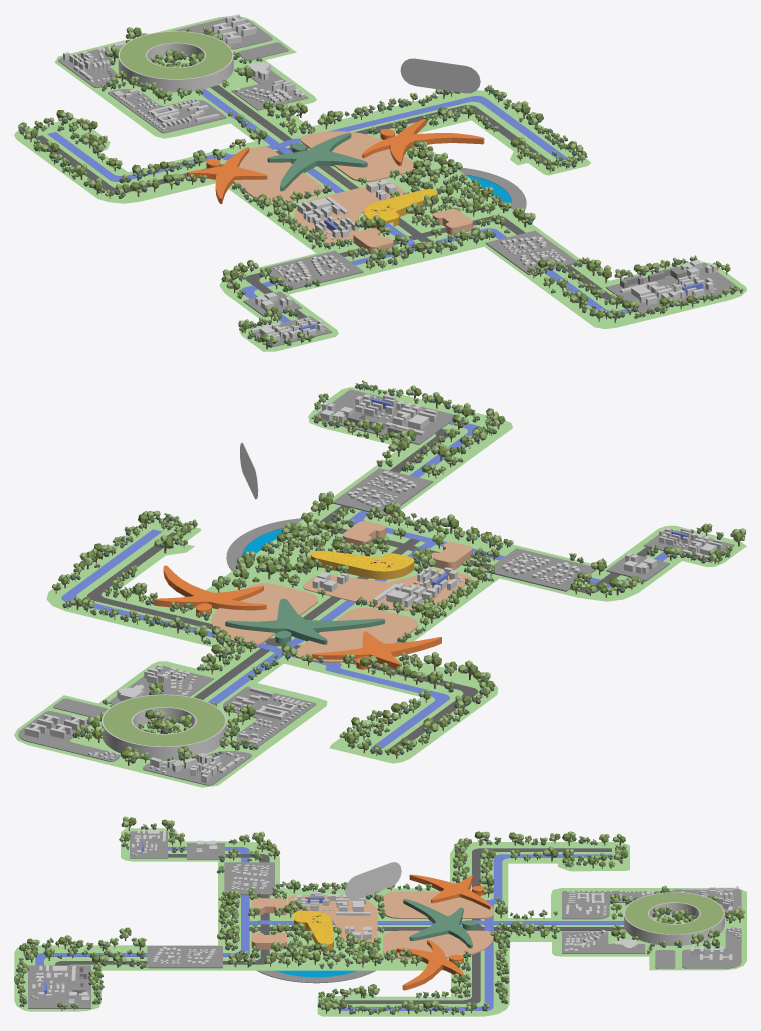
The model's file is plan02.fbx.
3 renders of one model, top to bottom at view 1: azimuth 30°, elevation 25°; view 2: azimuth 150°, elevation 25°; view 3: azimuth 270°, elevation 25°, orthographic. The views are drawn at different scales.
Visible parts, largest first — view 1: Trees, nurbsToPoly5, pCube441, Lungs_pCube463, pCube477, pCylinder3, pCylinder4, pCube478, pCube479, pPlane25, pPipe1; view 2: Trees, nurbsToPoly5, pCube441, Lungs_pCube463, pCube477, pCylinder3, pCylinder4, pCube478, pCube479, pPipe1; view 3: Trees, nurbsToPoly5, pCube441, Lungs_pCube463, pCube477, pCylinder3, pCylinder4, pCube478, pCube479, pPlane25, pPipe1, pCylinder5.
Boxes of the visible parts, left/top/right/bottom form: Trees: left=18, top=27, right=743, bottom=349; nurbsToPoly5: left=14, top=16, right=746, bottom=351; pCube441: left=243, top=179, right=740, bottom=347; Lungs_pCube463: left=233, top=131, right=472, bottom=254; pCube477: left=58, top=14, right=308, bottom=133; pCylinder3: left=187, top=119, right=484, bottom=203; pCylinder4: left=118, top=31, right=233, bottom=92; pCube478: left=47, top=89, right=633, bottom=322; pCube479: left=34, top=85, right=622, bottom=318; pPlane25: left=400, top=58, right=480, bottom=93; pPipe1: left=455, top=167, right=526, bottom=210; Trees: left=52, top=380, right=746, bottom=765; nurbsToPoly5: left=14, top=387, right=746, bottom=787; pCube441: left=311, top=389, right=734, bottom=607; Lungs_pCube463: left=211, top=521, right=472, bottom=662; pCube477: left=18, top=664, right=316, bottom=785; pCylinder3: left=154, top=565, right=441, bottom=669; pCylinder4: left=101, top=694, right=226, bottom=760; pCube478: left=61, top=420, right=672, bottom=749; pCube479: left=87, top=428, right=649, bottom=752; pPipe1: left=226, top=518, right=302, bottom=570; Trees: left=14, top=816, right=744, bottom=1015; nurbsToPoly5: left=14, top=828, right=746, bottom=1016; pCube441: left=28, top=829, right=371, bottom=1008; Lungs_pCube463: left=251, top=891, right=493, bottom=958; pCube477: left=562, top=886, right=741, bottom=968; pCylinder3: left=396, top=874, right=490, bottom=990; pCylinder4: left=624, top=892, right=724, bottom=945; pCube478: left=35, top=847, right=623, bottom=1010; pCube479: left=55, top=848, right=624, bottom=1003; pPlane25: left=345, top=862, right=401, bottom=900; pPipe1: left=257, top=970, right=375, bottom=983; pCylinder5: left=275, top=970, right=360, bottom=983.
Bounding box in the file's own units: 17705 × 4346 × 29050.
Materials: 15 (1 with a texture image).
